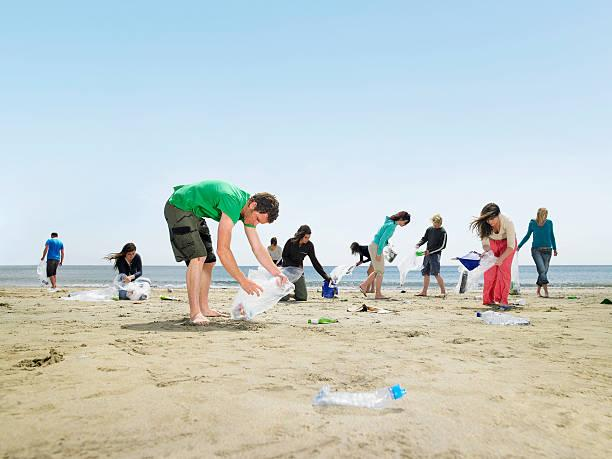Plastic: (309, 378, 410, 419), (470, 309, 536, 329), (303, 312, 344, 330)
Trash: (234, 268, 291, 330), (458, 246, 496, 299)
